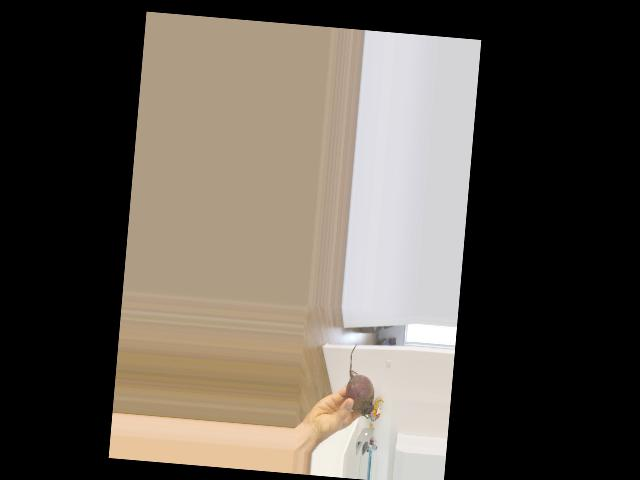beet: (343, 342, 378, 418)
